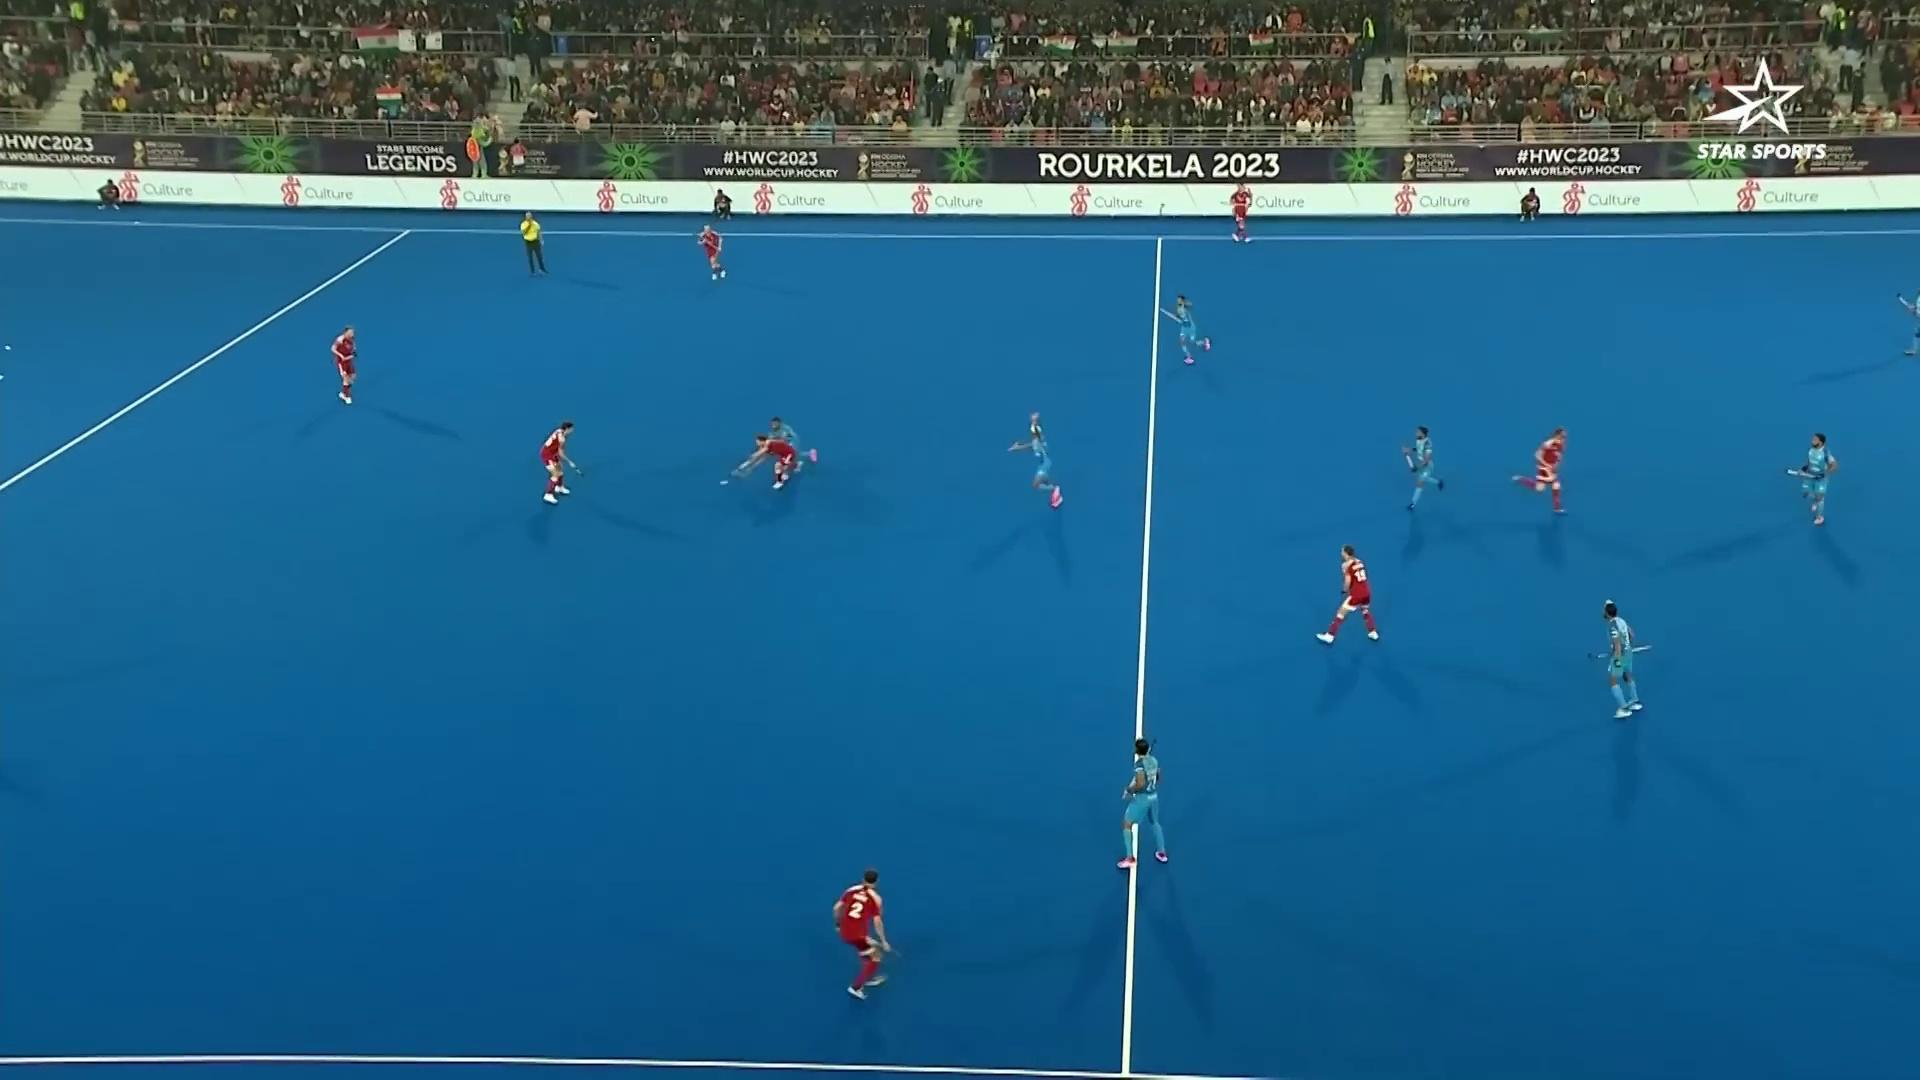ball: (716, 467, 733, 496)
